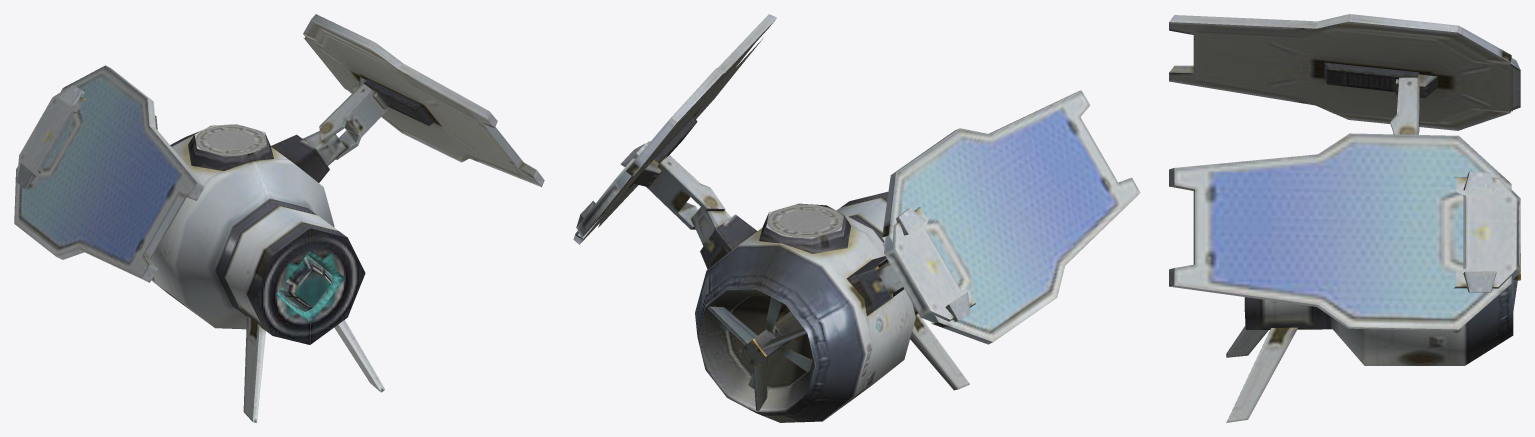
Rendered from Prop_weixingzhiyuan.FBX.
The picture shows the model from 3 angles, left to right: view 1: azimuth 30°, elevation 25°; view 2: azimuth 150°, elevation 25°; view 3: azimuth 270°, elevation 25°; orthographic projection. The views are drawn at different scales.
Visible parts, largest first — view 1: Prop_weixingzhiyuan; view 2: Prop_weixingzhiyuan; view 3: Prop_weixingzhiyuan.
Part boxes in pixels (left/top/right/bottom): Prop_weixingzhiyuan: left=14, top=14, right=544, bottom=422; Prop_weixingzhiyuan: left=573, top=14, right=1140, bottom=422; Prop_weixingzhiyuan: left=1169, top=14, right=1520, bottom=422.
Size of the model in its own units: 2.8 by 1.93 by 1.94.
Materials: 1 (1 with a texture image).
